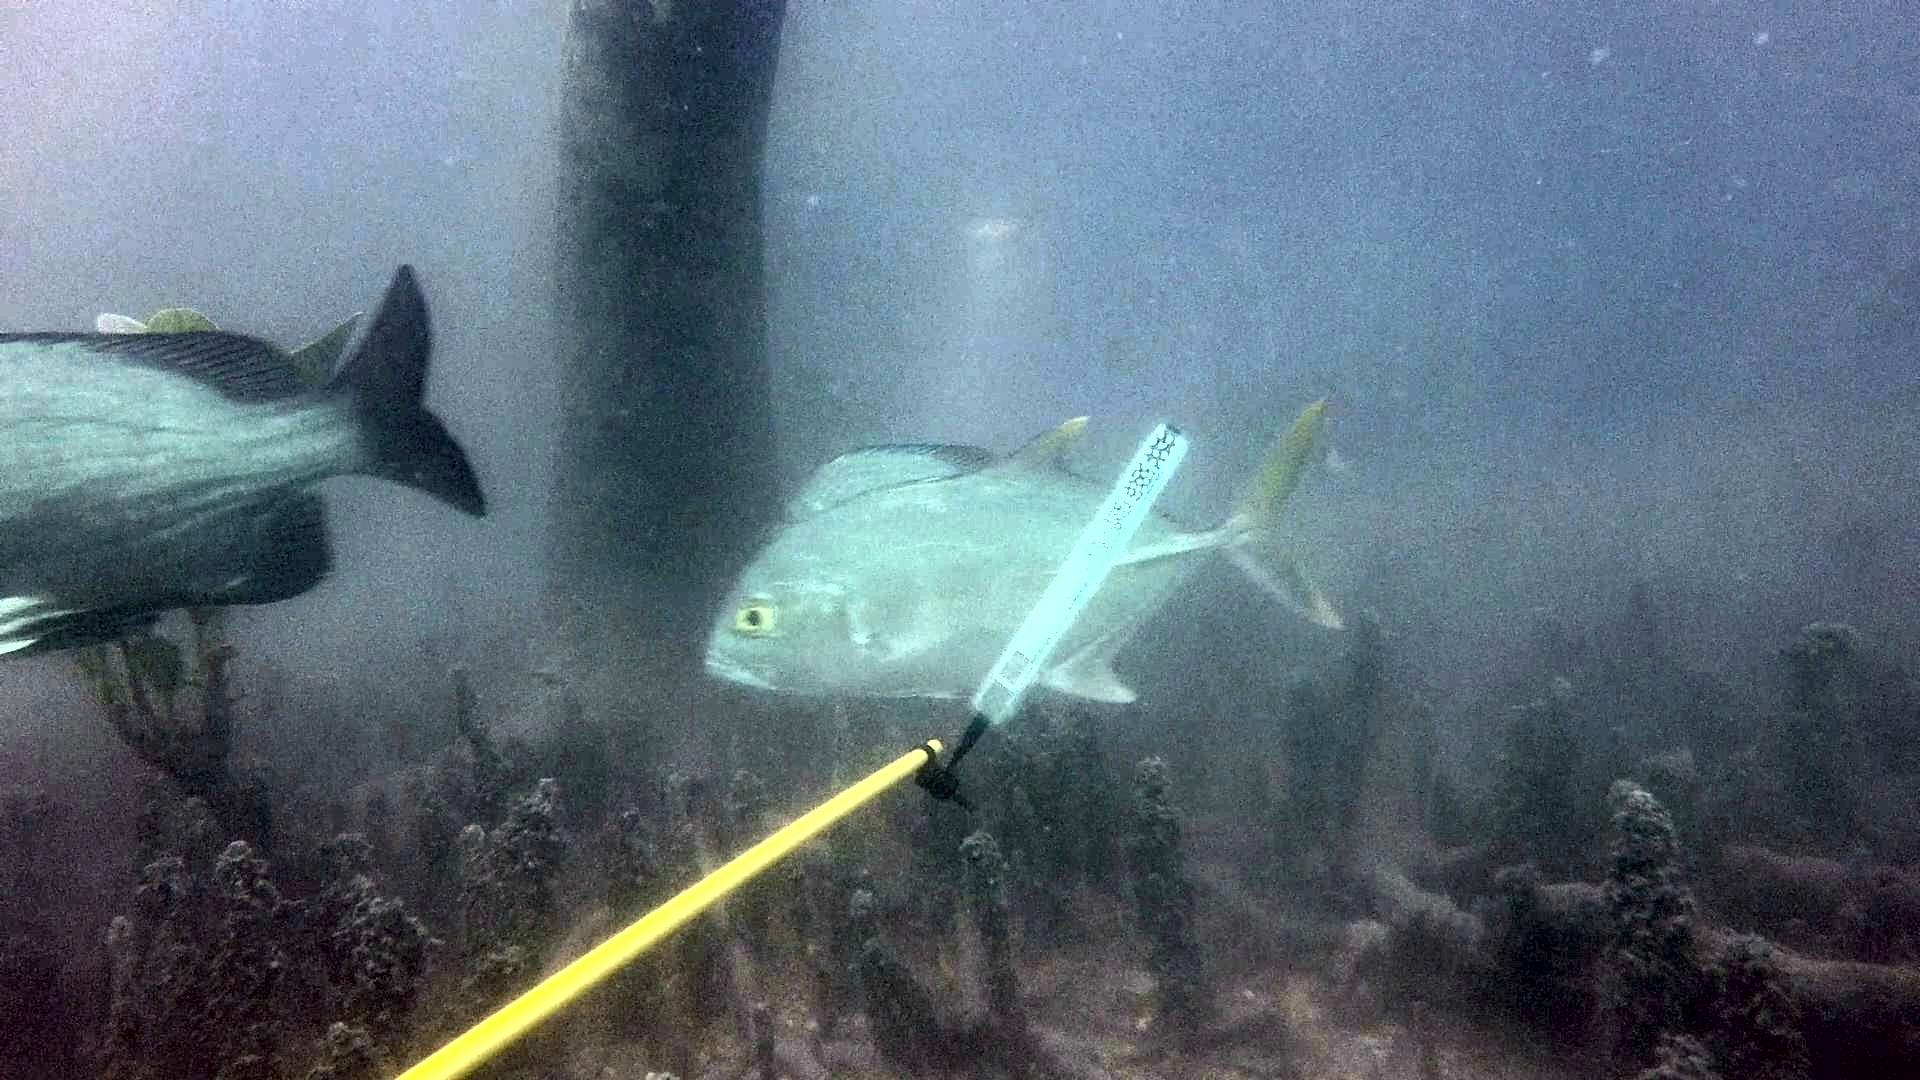acanthopagrus palmaris: (0, 251, 501, 671)
caranx: (693, 381, 1359, 721)
